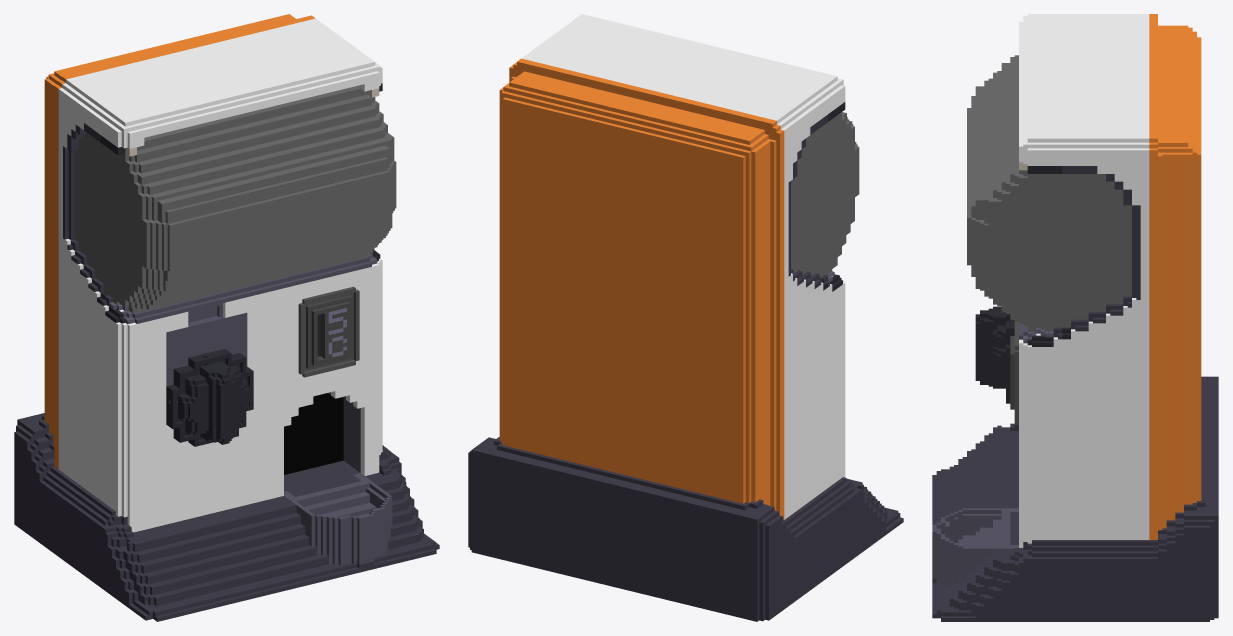
Rendered from bedroom-desk-view-television-7-gacha.obj.
3 views of the same model, side by side, from view 1: azimuth 30°, elevation 25°; view 2: azimuth 150°, elevation 25°; view 3: azimuth 270°, elevation 25° (orthographic). The views are drawn at different scales.
Visible parts, largest first — view 1: gacha; view 2: gacha; view 3: gacha.
Boxes of the visible parts, bbox=[...] form: gacha: bbox=[14, 14, 439, 621]; gacha: bbox=[468, 14, 903, 621]; gacha: bbox=[932, 14, 1218, 621].
Size of the model in its own units: 8 by 12 by 6.6.
1 material, 1 textured.
